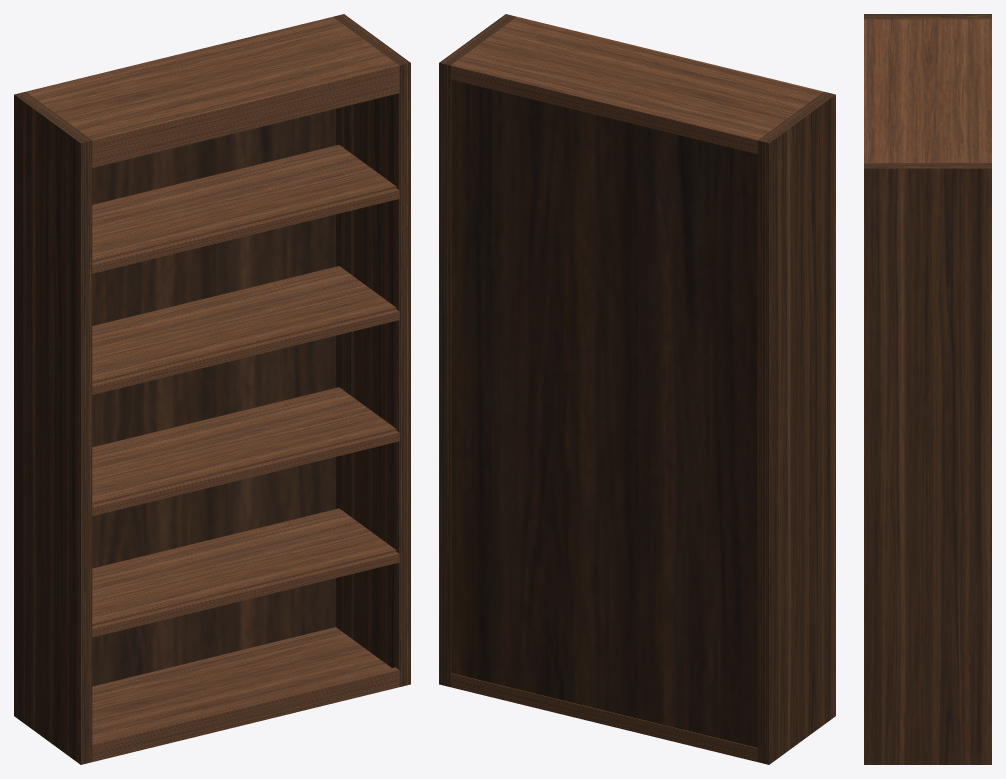
File: bookshelf.glb
3 views of the same model, side by side, from view 1: azimuth 30°, elevation 25°; view 2: azimuth 150°, elevation 25°; view 3: azimuth 270°, elevation 25° (orthographic). The views are drawn at different scales.
Parts seen in each view (by area): view 1: core_bookshelf; view 2: core_bookshelf; view 3: core_bookshelf.
Part boxes in pixels (<box>): core_bookshelf: <box>14,14,410,764</box>; core_bookshelf: <box>439,14,835,764</box>; core_bookshelf: <box>864,14,991,764</box>.
Bounding box in the file's own units: 1 × 1.8 × 0.35.
Materials: 1 (1 with a texture image).
